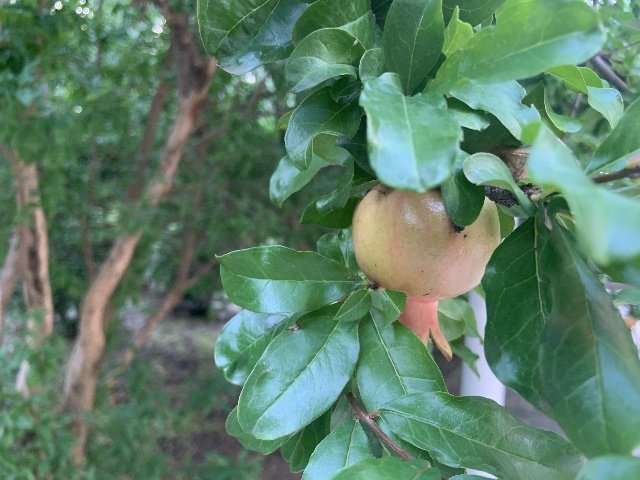mid-growth: (352, 182, 500, 362)
